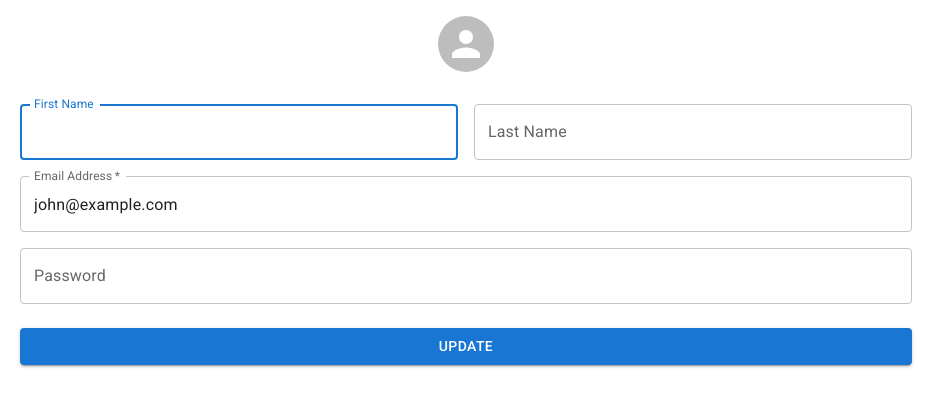
Test: should display required helper text
The image size is (933, 407).
Clear the field labelled "Email Address *" at (466, 204), box [20,176,912,232]
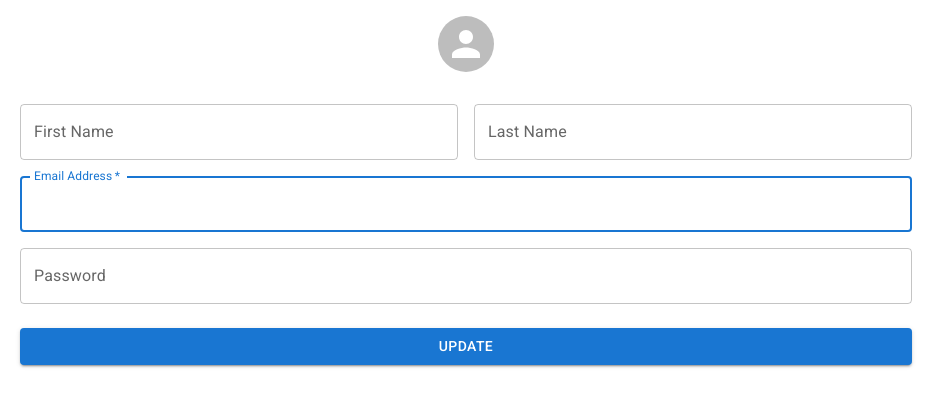
Click the button "Update" at (466, 346), box [20,328,912,364]
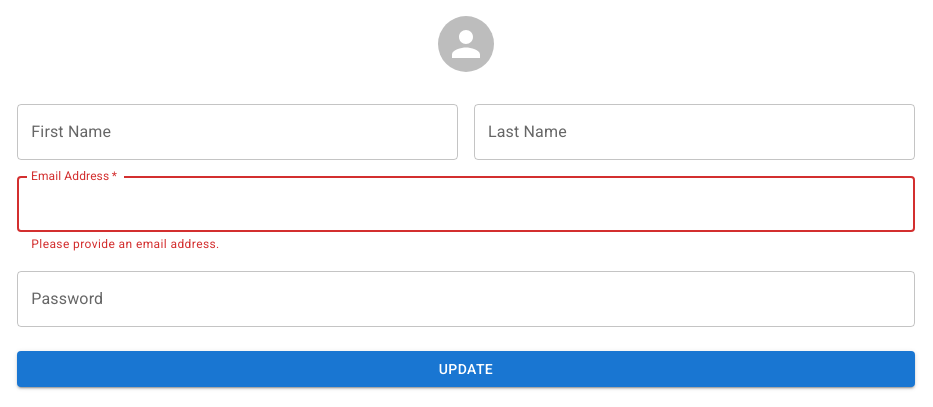
Expected: the text "Please provide an email address." is shown, [31,237,220,251]
